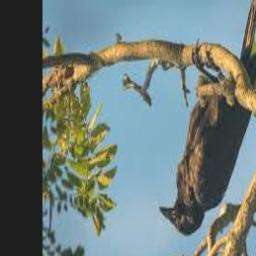Crow: (159, 0, 256, 236)
